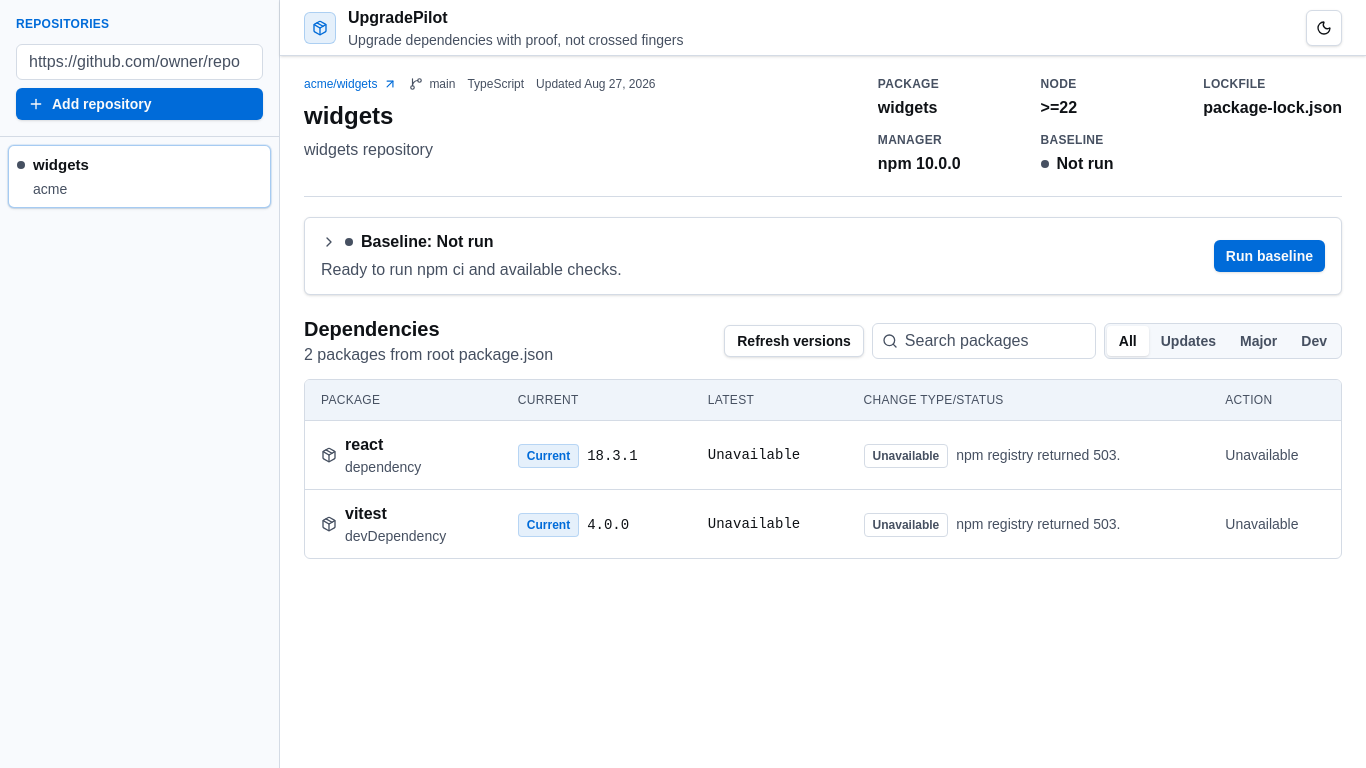
Test case: RepositoryWorkspace › allows manually refreshing unavailable latest-version data
Expected: the heading "widgets" is shown, [304,102,393,129]
What coordinates should you click on to do the following:
click the button "Refresh versions"
I would click on:
 (794, 341)
Its box is [724,325,864,357].
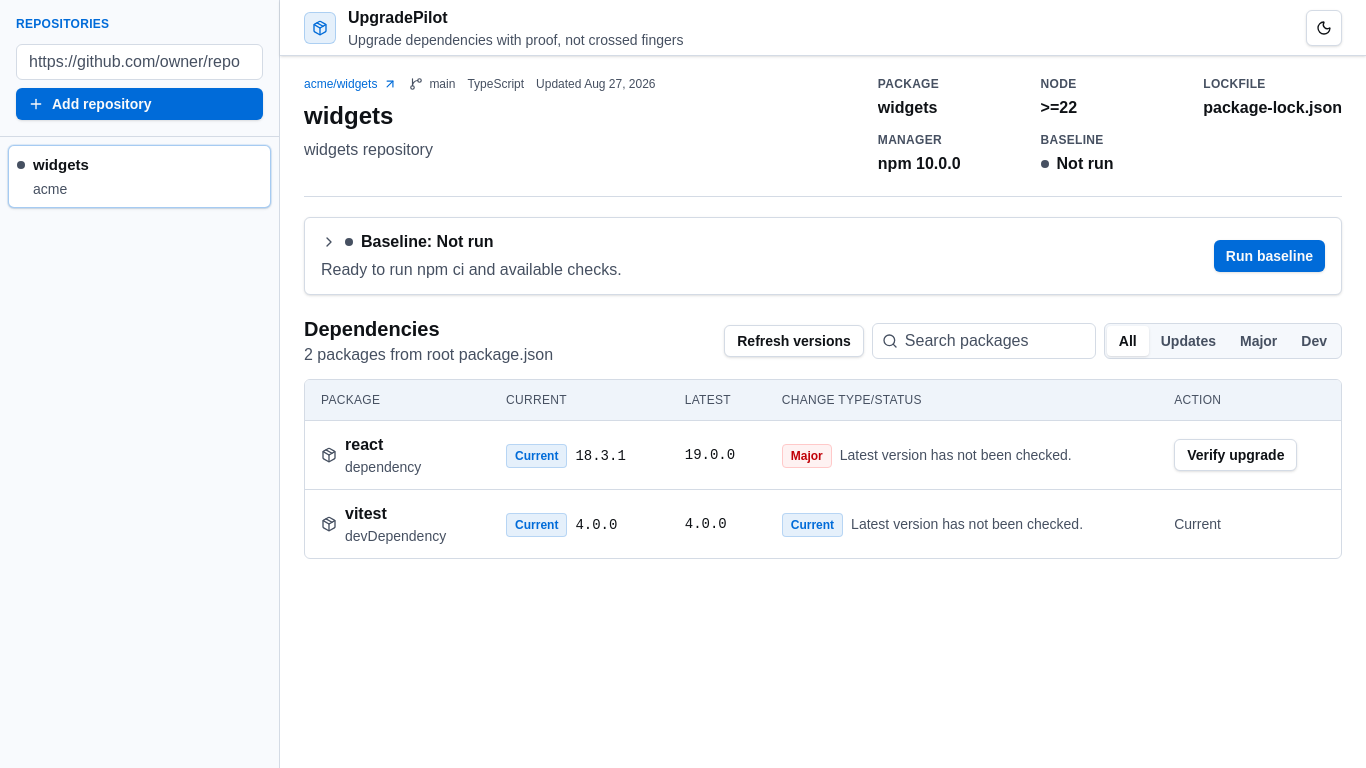
Expected: the text "19.0.0" is shown, [669,420,766,490]
Expected: the button "Verify upgrade" is enabled, [1174,439,1298,471]
